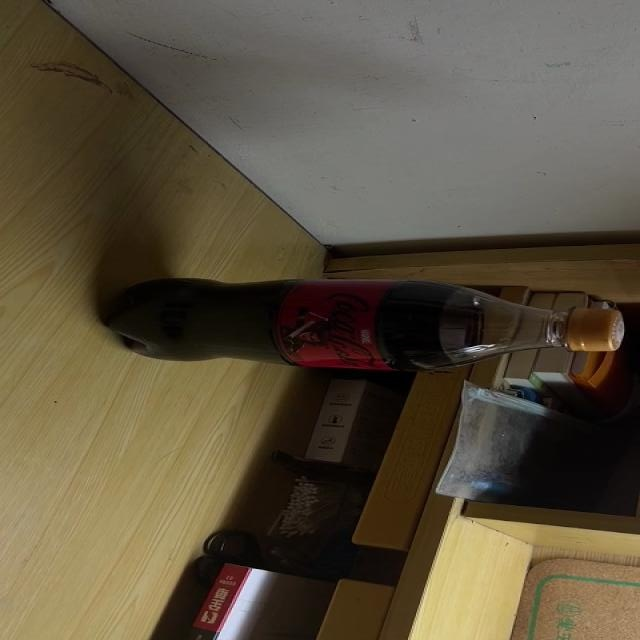Coca-Cola: (109, 281, 624, 367)
